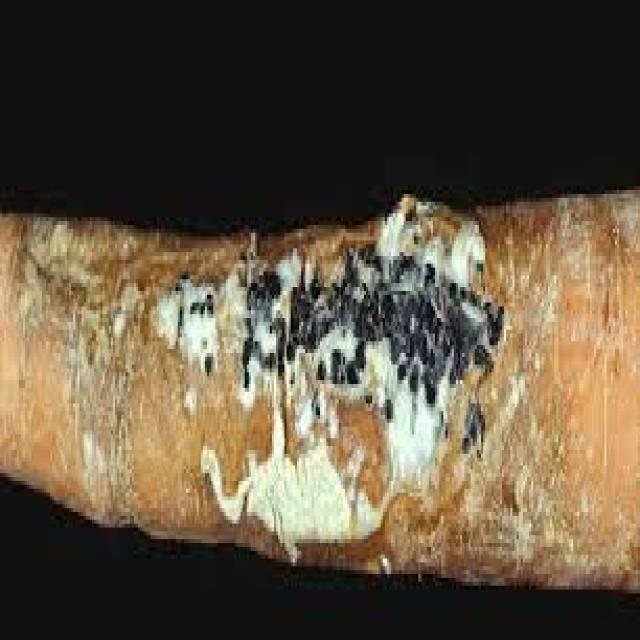Stale_Carrot: (0, 192, 640, 588)
